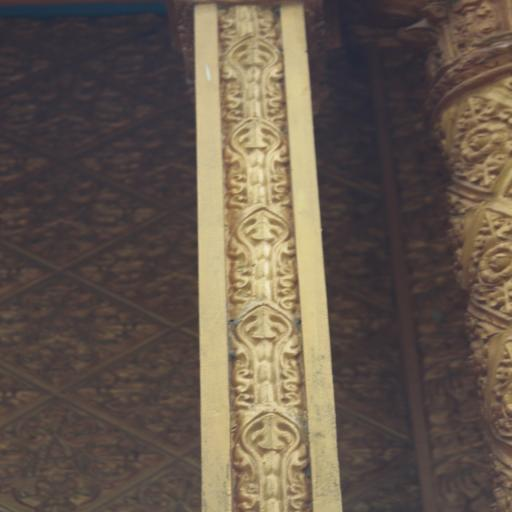hoa: (0, 406, 144, 502), (1, 59, 147, 152), (0, 160, 142, 254), (0, 274, 132, 375), (96, 336, 206, 432), (104, 222, 195, 316)
la: (231, 299, 301, 410), (236, 406, 308, 506), (233, 204, 298, 306), (225, 19, 279, 119), (234, 116, 290, 208)
